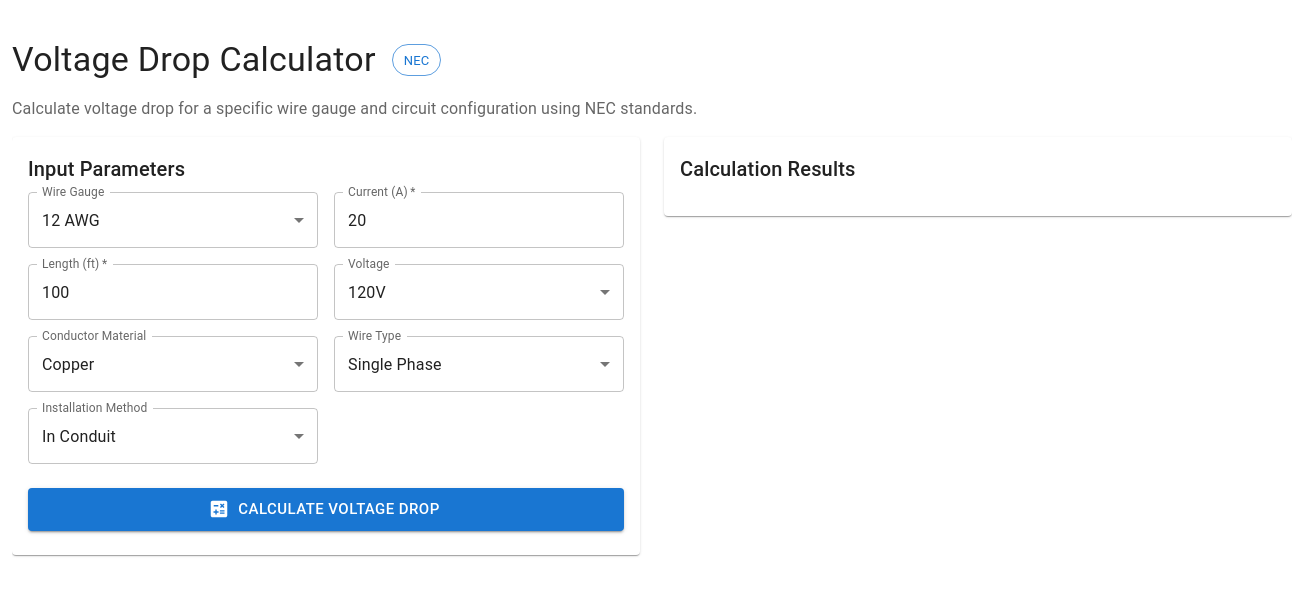
Test case: VoltageDropCalculator › Results Display › should show NEC compliance messages for NEC standard
Check: the heading "Voltage Drop Calculator" is shown, box x1=12 y1=39 x2=376 y2=81
Note: Trigger calculation
Click the button "Calculate Voltage Drop": (326, 510) x1=28 y1=488 x2=624 y2=531
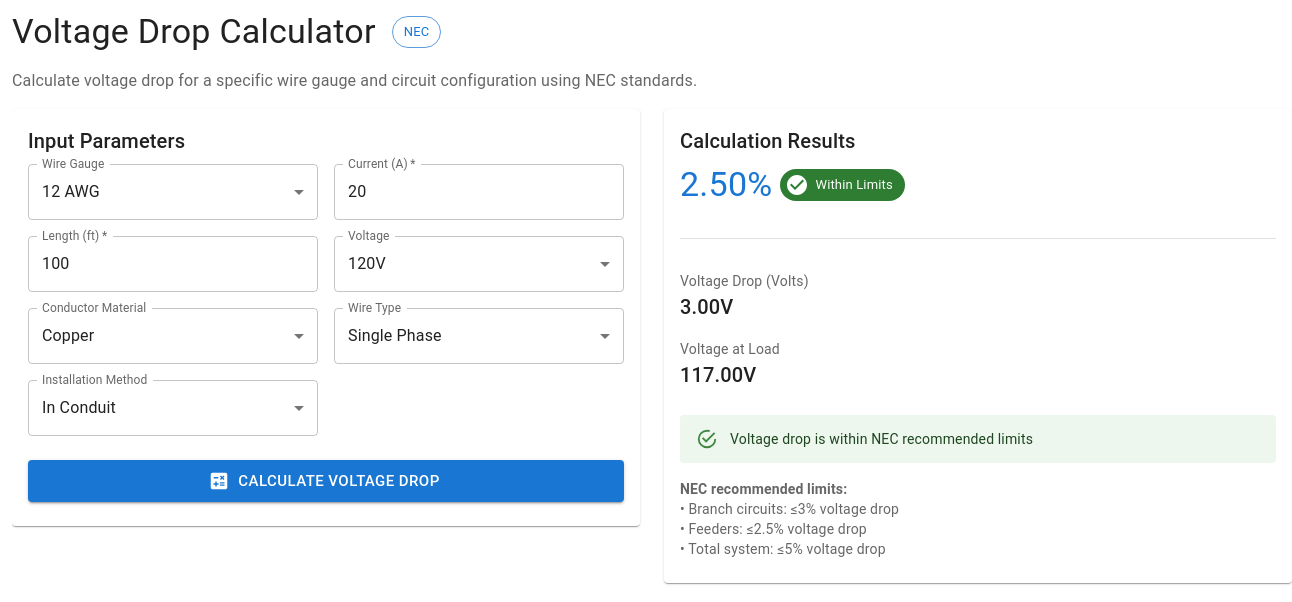
Check: the text "Voltage drop is within NEC recommended limits" is shown, box x1=730 y1=431 x2=1033 y2=447
Check: the text "Branch circuits: ≤3% voltage drop" is shown, box x1=680 y1=501 x2=899 y2=517
